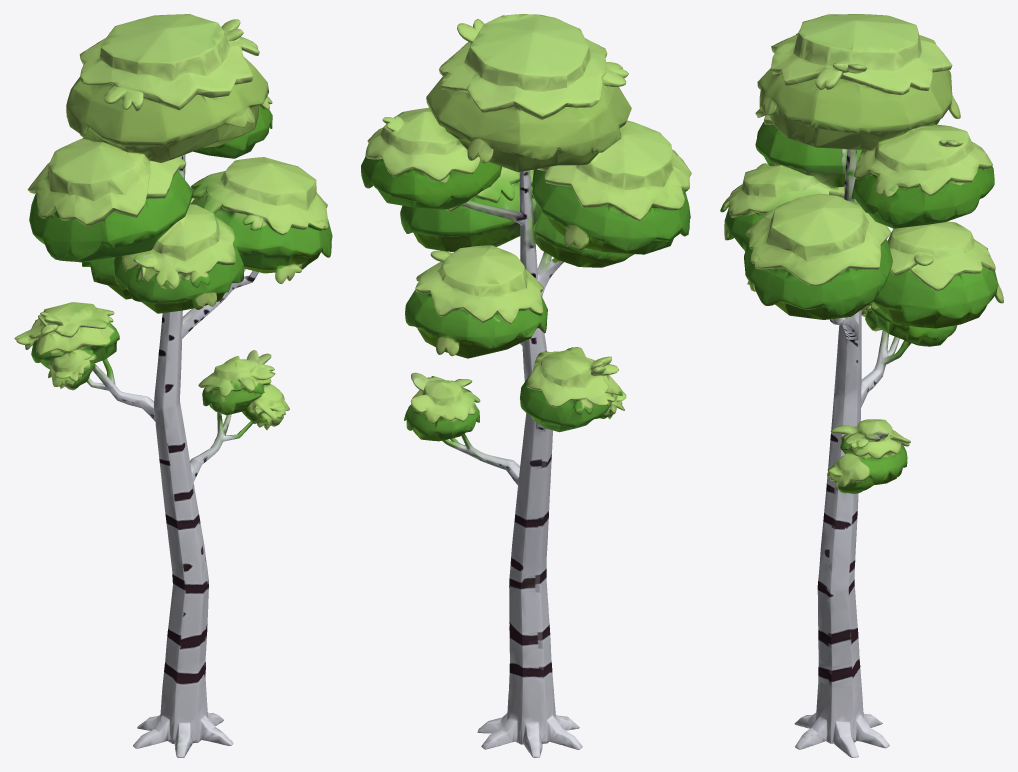
The model's file is birch-a.glb.
The picture shows the model from 3 angles, left to right: view 1: azimuth 30°, elevation 25°; view 2: azimuth 150°, elevation 25°; view 3: azimuth 270°, elevation 25°; orthographic projection.
Visible parts, largest first — view 1: node_0; view 2: node_0; view 3: node_0.
Part boxes in pixels (box(x1,y1,x2,y2)): node_0: box(14, 14, 332, 757); node_0: box(361, 14, 691, 757); node_0: box(720, 14, 1003, 757).
Size of the model in its own units: 0.4852 by 1.18 by 0.4276.
Materials: 1 (1 with a texture image).
